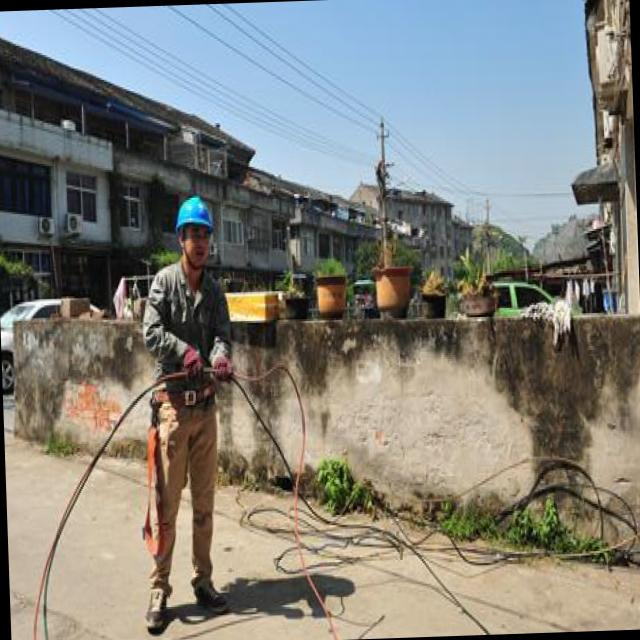helmet: (171, 186, 220, 274)
